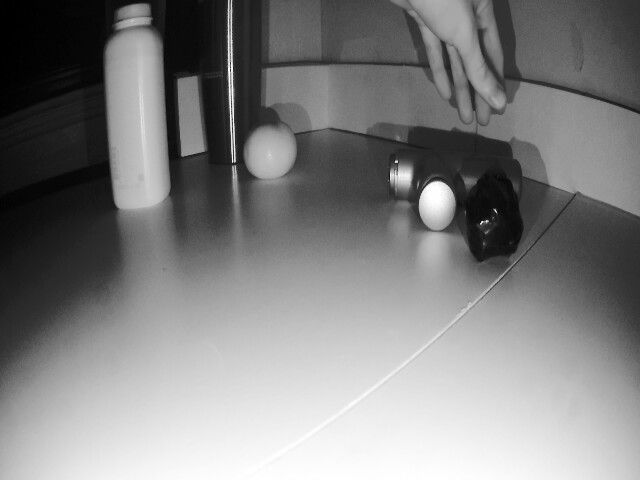black: (460, 176, 522, 256)
